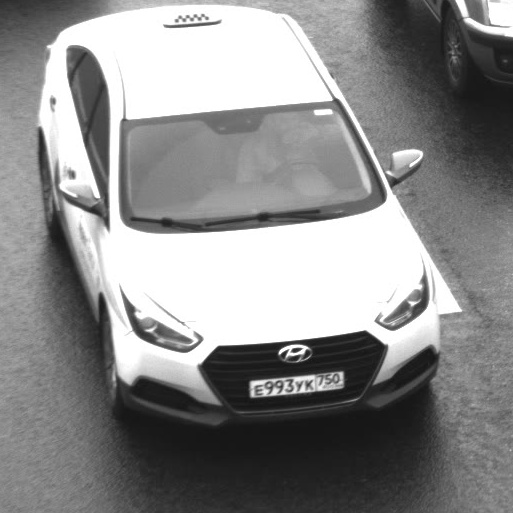plate: (240, 361, 356, 406)
